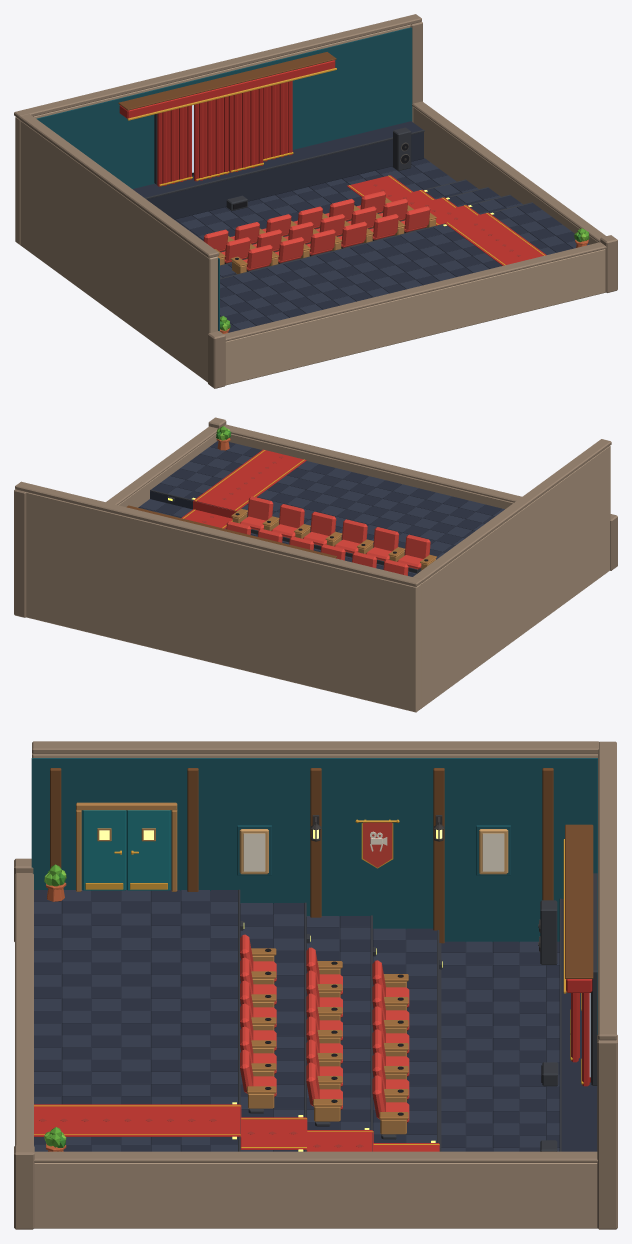
The model's file is cinema_auditorium.glb.
3 renders of one model, top to bottom at view 1: azimuth 30°, elevation 25°; view 2: azimuth 150°, elevation 25°; view 3: azimuth 270°, elevation 25°, orthographic. The views are drawn at different scales.
Parts seen in each view (by area): view 1: cinema_auditorium, part_curtain_r_inner, part_curtain_l_inner, part_curtain_l_outer, part_curtain_r_outer; view 2: cinema_auditorium; view 3: cinema_auditorium, part_door_l, part_door_r, part_curtain_r_outer.
Boxes of the visible parts, bbox=[...] form: cinema_auditorium: bbox=[14, 14, 617, 388]; part_curtain_r_inner: bbox=[228, 88, 263, 172]; part_curtain_l_inner: bbox=[194, 96, 229, 181]; part_curtain_l_outer: bbox=[157, 105, 192, 186]; part_curtain_r_outer: bbox=[263, 81, 293, 161]; cinema_auditorium: bbox=[14, 417, 617, 712]; cinema_auditorium: bbox=[14, 741, 617, 1229]; part_door_l: bbox=[82, 810, 138, 890]; part_door_r: bbox=[114, 810, 170, 890]; part_curtain_r_outer: bbox=[581, 993, 590, 1086].
Size of the model in its own units: 14.76 by 4.54 by 12.76.
